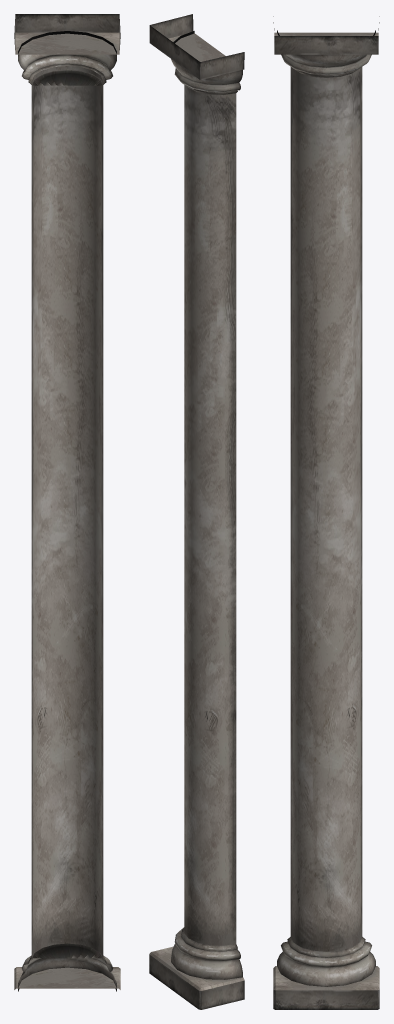
File: colonne02.fbx
3 renders of one model, left to right at view 1: azimuth 90°, elevation 25°; view 2: azimuth 210°, elevation 25°; view 3: azimuth 270°, elevation 25°, orthographic. The views are drawn at different scales.
Parts seen in each view (by area): view 1: polySurface310; view 2: polySurface310; view 3: polySurface310.
Boxes of the visible parts, x1=… form: polySurface310: x1=14, y1=14, x2=120, y2=991; polySurface310: x1=149, y1=14, x2=244, y2=1009; polySurface310: x1=273, y1=16, x2=379, y2=1009.
Bounding box in the file's own units: 34.67 × 701 × 69.34.
